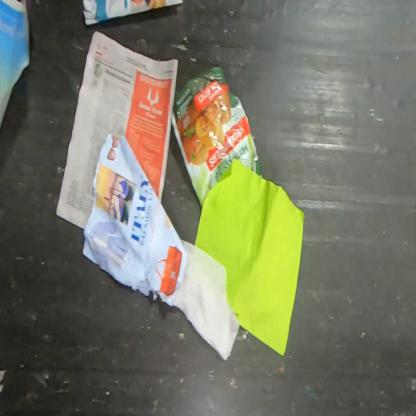soft_plastic: (170, 65, 262, 209)
